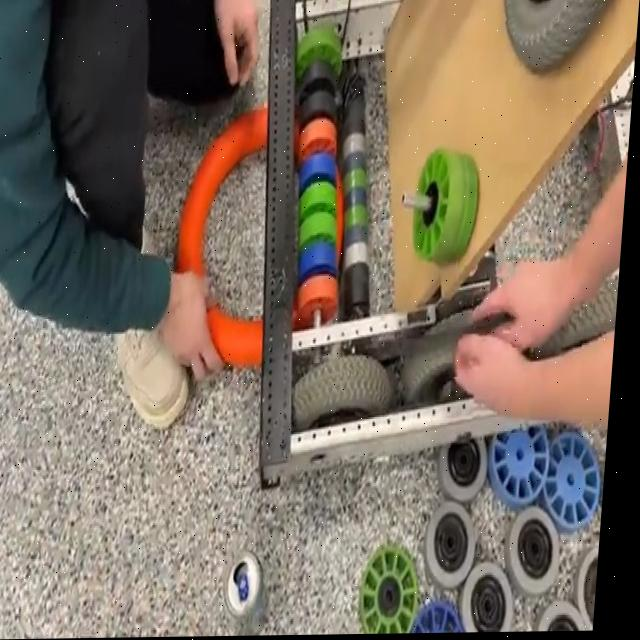note: (172, 100, 359, 376)
